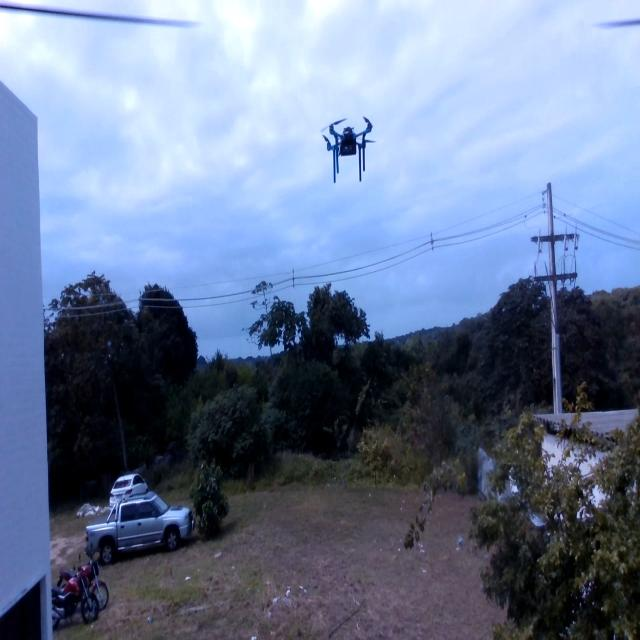-uav-: (308, 102, 382, 194)
